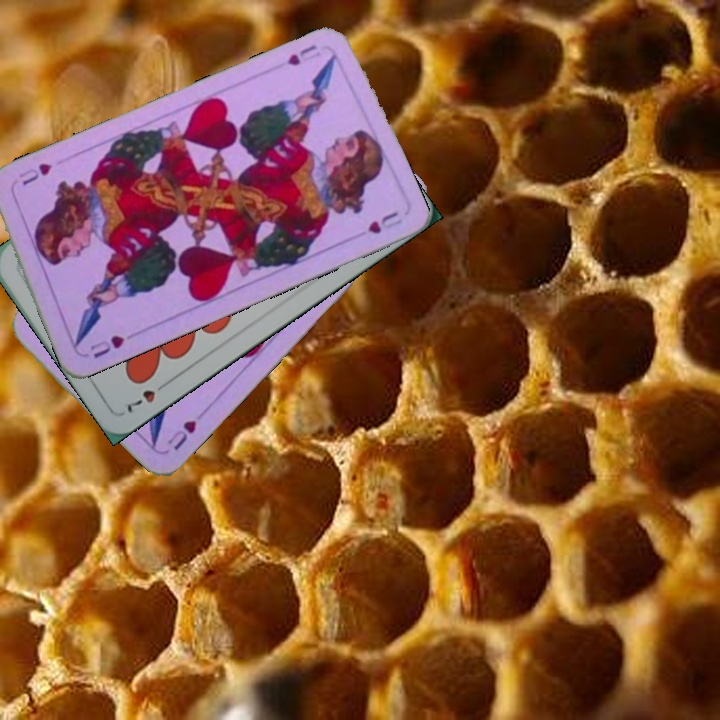H7: (122, 376, 172, 416)
HU: (163, 416, 199, 453), (86, 331, 127, 361), (282, 40, 319, 68)
